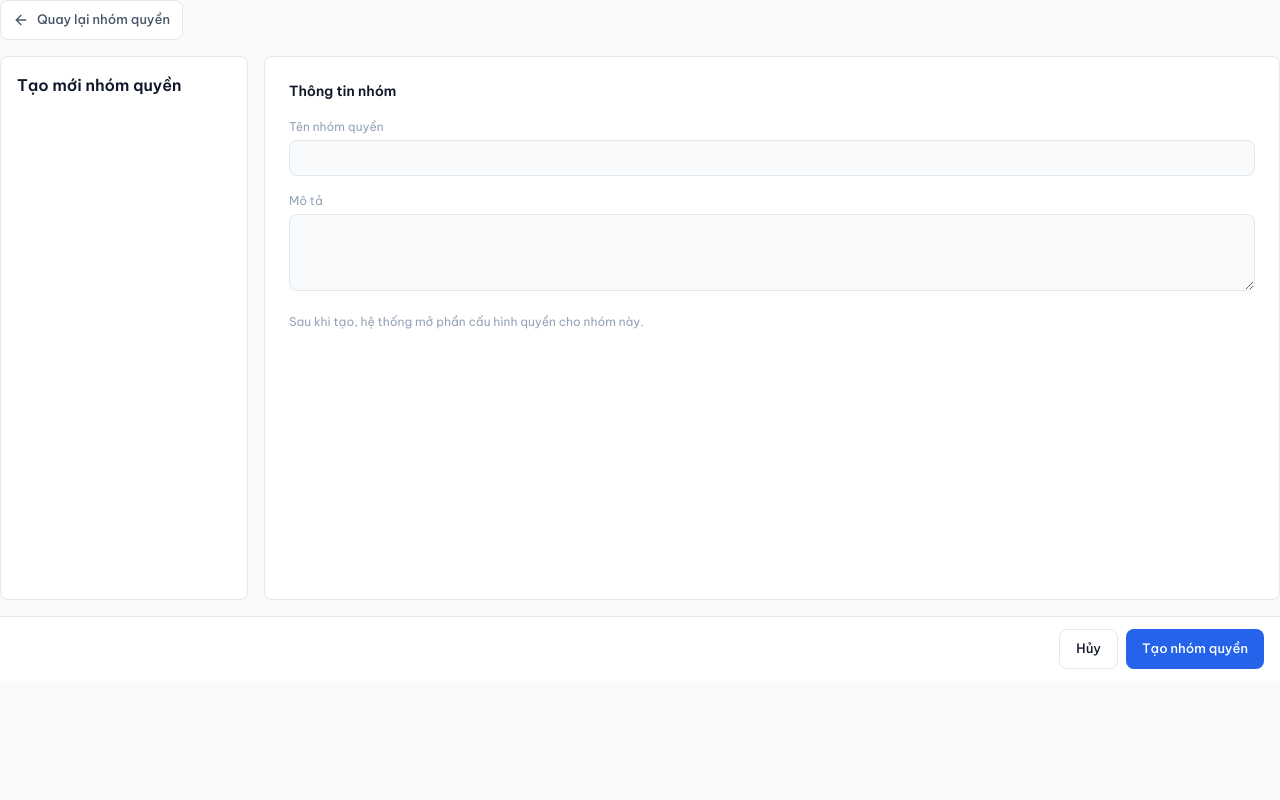
Test: NewRoleForm (/system/roles/new) › lỗi khác (403…) → banner của trang, giữ dữ liệu
In the field labelled "Tên nhóm quyền": (772, 158) [289,140,1255,176], type "Kho phụ"
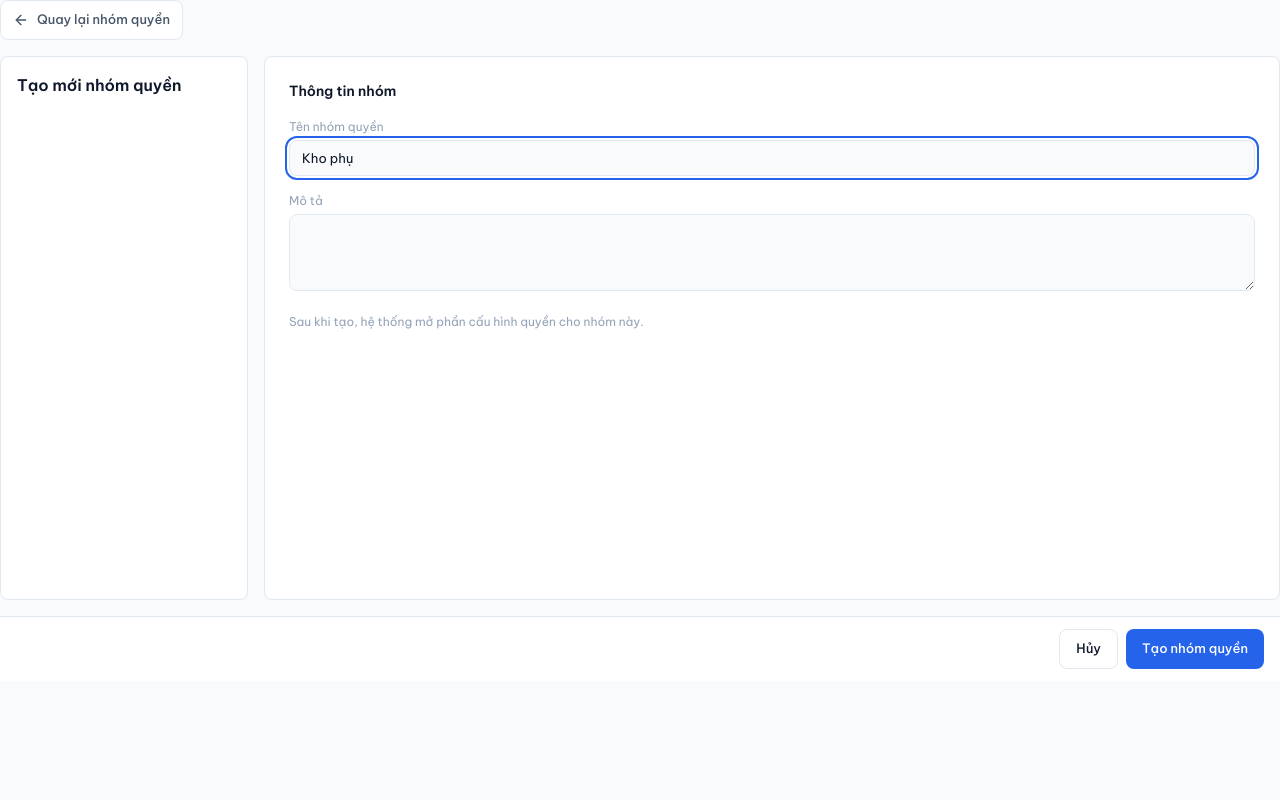
Click the button "Tạo nhóm quyền": (1195, 649) [1126,629,1264,669]
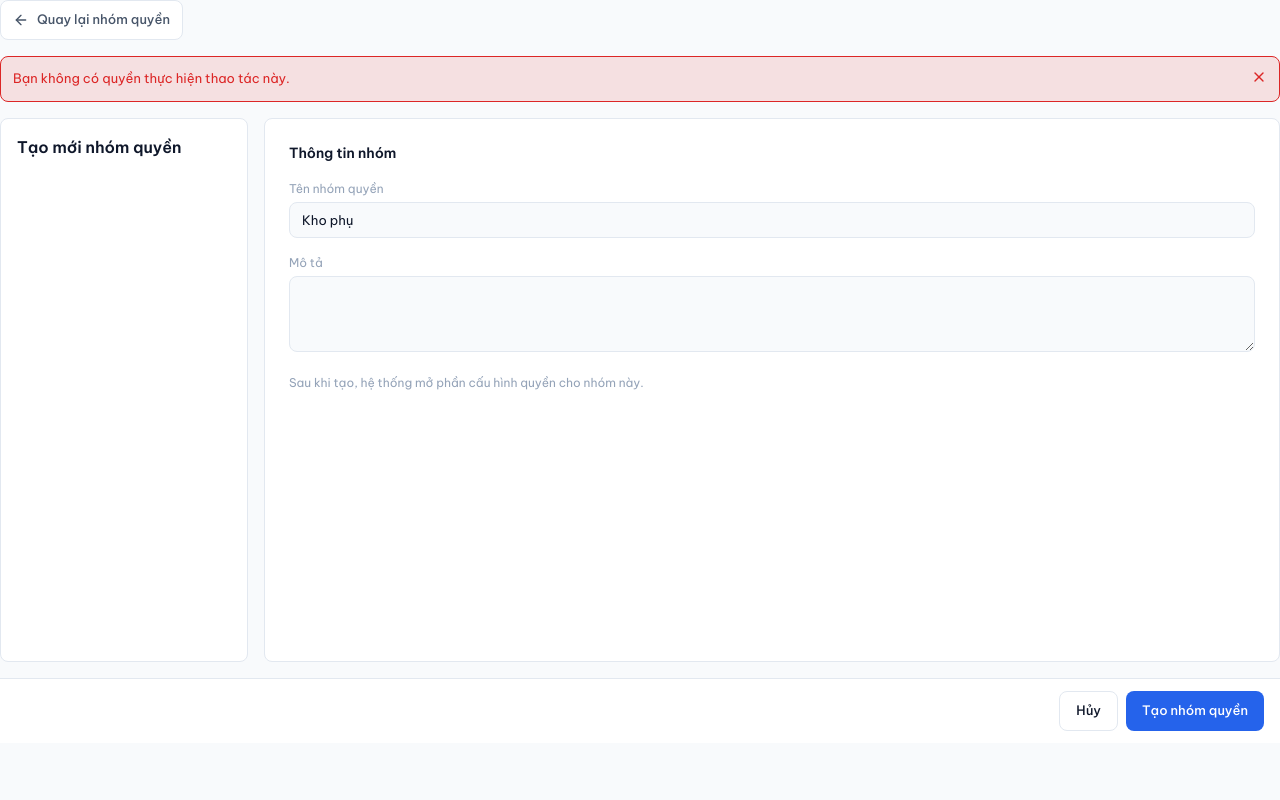
Now the message shows "không có quyền", box [13,70,290,86]
